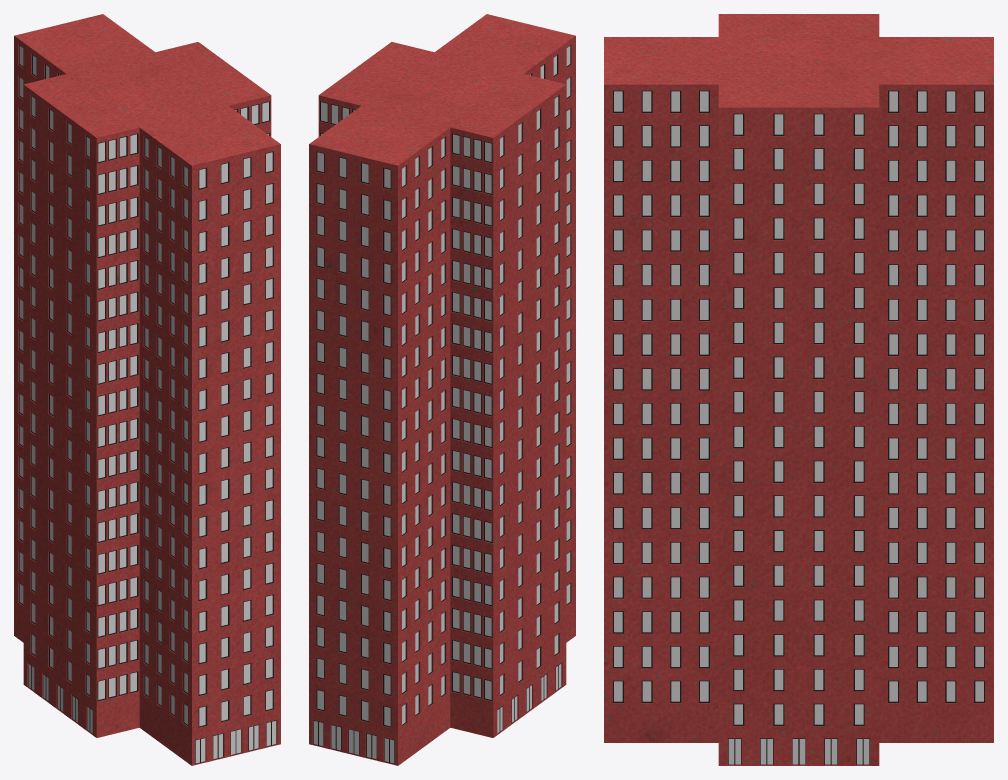
File: building.fbx
The picture shows the model from 3 angles, left to right: view 1: azimuth 30°, elevation 25°; view 2: azimuth 150°, elevation 25°; view 3: azimuth 270°, elevation 25°; orthographic projection. The views are drawn at different scales.
Parts seen in each view (by area): view 1: building; view 2: building; view 3: building.
Part boxes in pixels (x1=…): building: x1=14, y1=14, x2=280, y2=765; building: x1=309, y1=14, x2=575, y2=765; building: x1=604, y1=14, x2=993, y2=765.
Bounding box in the file's own units: 2115 × 6938 × 3724.
Materials: 3 (1 with a texture image).
